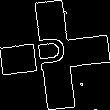P_N: (34, 28, 76, 82)
